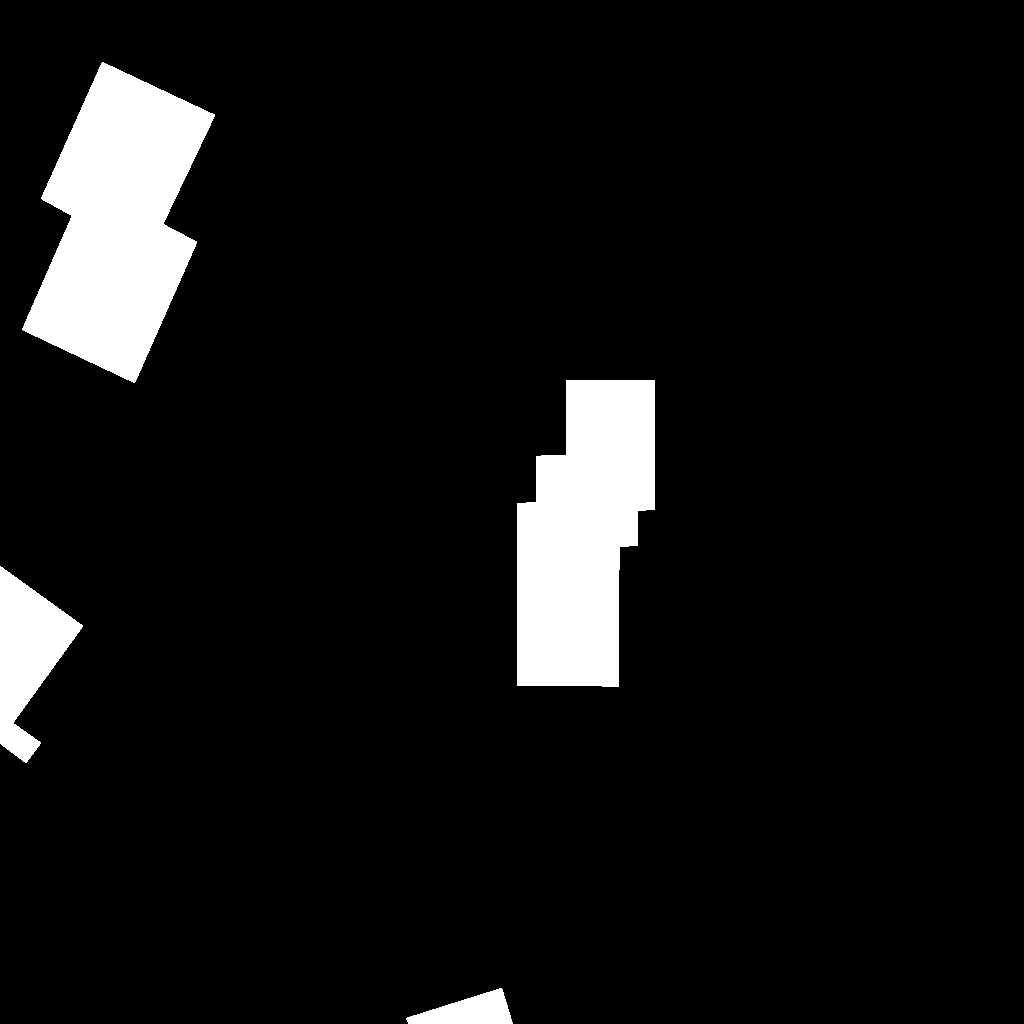building: (22, 62, 216, 384), (517, 380, 655, 687), (0, 566, 84, 764), (406, 988, 514, 1024)
